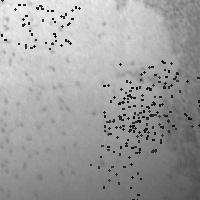pitted_surface: (3, 1, 83, 195), (134, 3, 200, 178), (104, 112, 163, 172), (101, 87, 160, 146), (103, 81, 161, 141), (119, 60, 176, 117), (143, 73, 199, 130), (18, 0, 78, 48), (89, 156, 143, 200), (0, 0, 31, 55)
